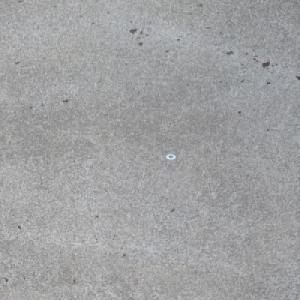Washer: (165, 153, 177, 160)
